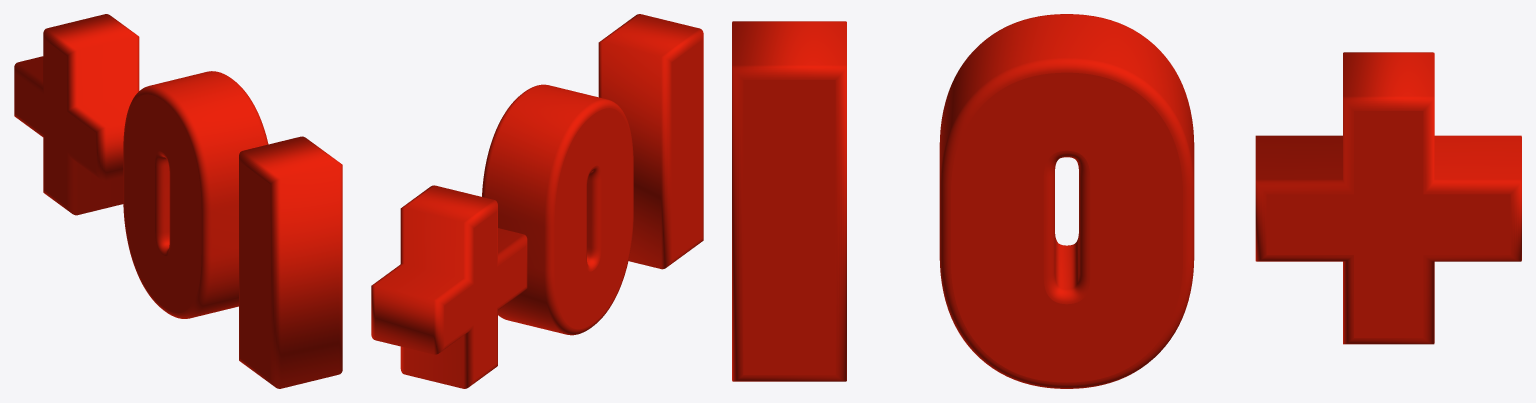
The picture shows the model from 3 angles, left to right: view 1: azimuth 30°, elevation 25°; view 2: azimuth 150°, elevation 25°; view 3: azimuth 270°, elevation 25°; orthographic projection. The views are drawn at different scales.
Visible parts, largest first — view 1: Text; view 2: Text; view 3: Text.
Part boxes in pixels (left/top/right/bottom): Text: left=14, top=14, right=342, bottom=388; Text: left=371, top=14, right=703, bottom=388; Text: left=732, top=14, right=1521, bottom=388.
Size of the model in its own units: 22 by 64.9 by 141.
